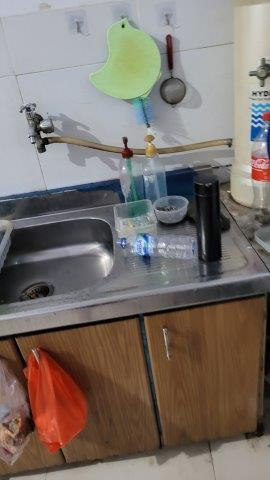botolplastik: (112, 232, 200, 259), (251, 109, 270, 224)
